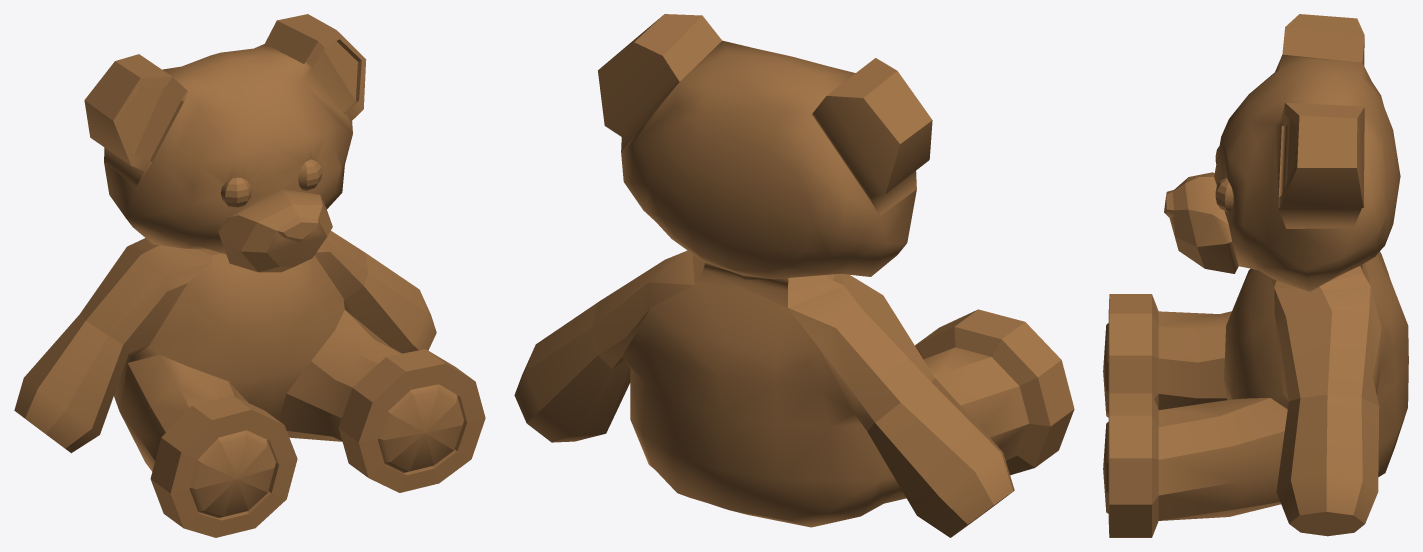
The model's file is plushie.fbx.
3 renders of one model, left to right at view 1: azimuth 30°, elevation 25°; view 2: azimuth 150°, elevation 25°; view 3: azimuth 270°, elevation 25°, orthographic. The views are drawn at different scales.
Parts seen in each view (by area): view 1: pSphere4; view 2: pSphere4; view 3: pSphere4.
Part boxes in pixels (box(x1,y1,x2,y2)): pSphere4: box(14, 14, 485, 537); pSphere4: box(514, 14, 1074, 537); pSphere4: box(1103, 14, 1408, 537).
Size of the model in its own units: 9.04 by 8.24 by 5.5.
